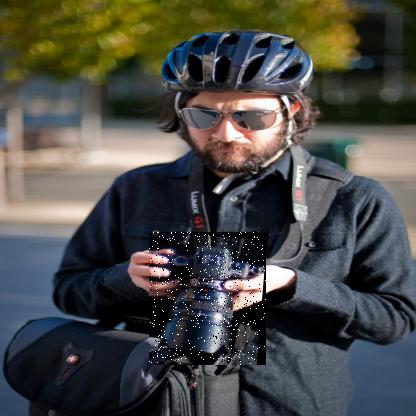Camera: (150, 233, 268, 367)
